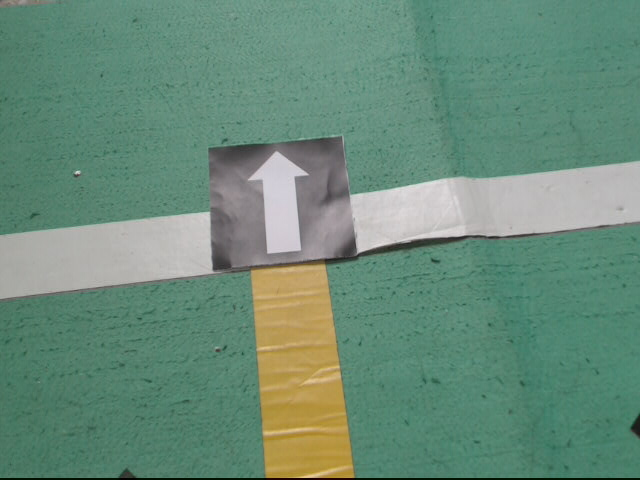straight: (208, 136, 357, 267)
